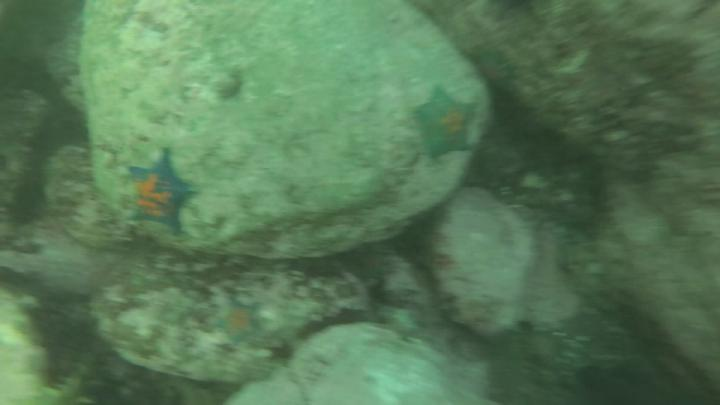holothurian: (33, 370, 97, 405)
starfish: (125, 149, 201, 238), (411, 83, 484, 162), (207, 296, 269, 348)
